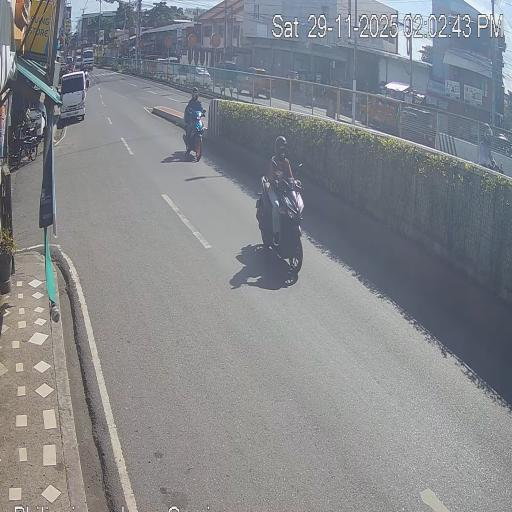Helmet: (275, 136, 288, 155), (192, 84, 200, 103)
Motor: (255, 158, 306, 276), (184, 109, 205, 160)
